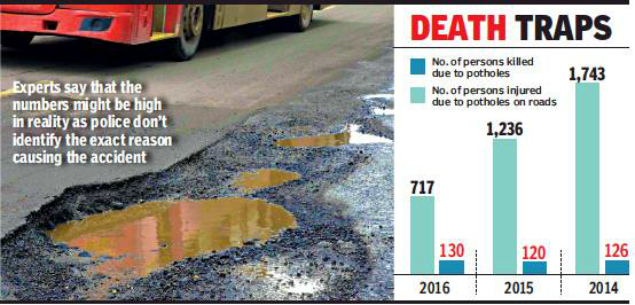pothole: (45, 197, 320, 289), (283, 101, 381, 161), (217, 156, 301, 197)
